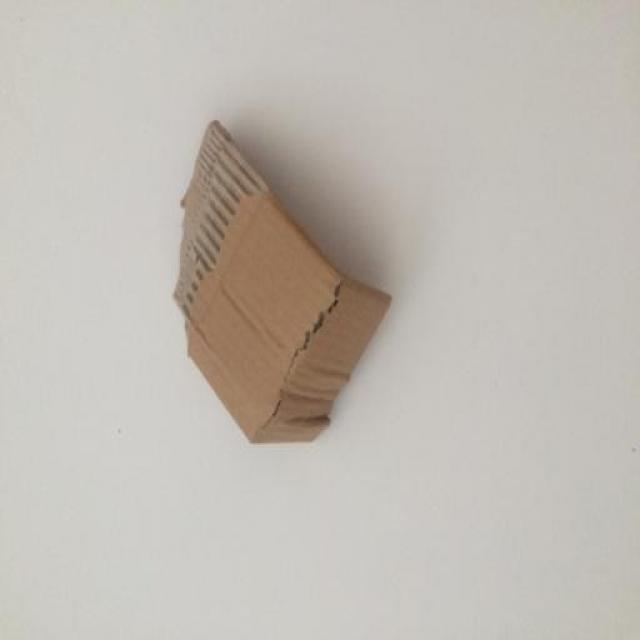cardboard paper: (174, 120, 389, 441)
